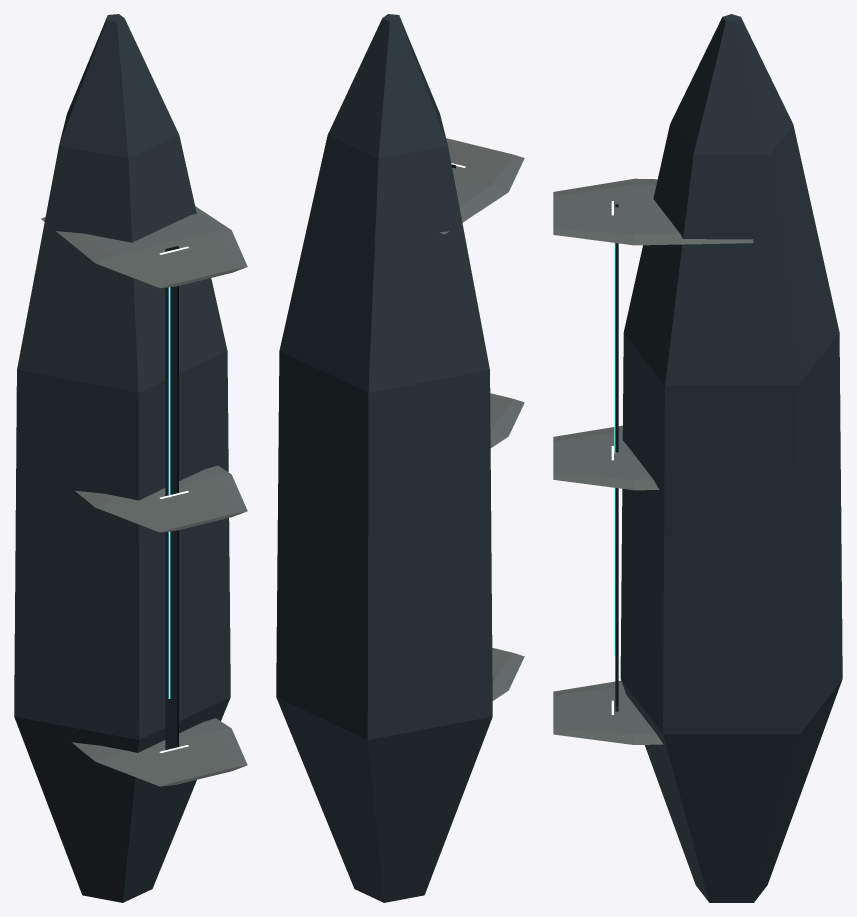
The model's file is Wall_Anchor_and_Lift.glb.
3 views of the same model, side by side, from view 1: azimuth 30°, elevation 25°; view 2: azimuth 150°, elevation 25°; view 3: azimuth 270°, elevation 25° (orthographic).
Parts seen in each view (by area): view 1: Anchor 1 | embedded alien stele, Anchor 1 | levitating landing 3, Anchor 1 | levitating landing 1, Anchor 1 | vertical transfer recess, Anchor 1 | levitating landing 2, Anchor 1 | transfer trace; view 2: Anchor 1 | embedded alien stele, Anchor 1 | levitating landing 3, Anchor 1 | levitating landing 2, Anchor 1 | levitating landing 1; view 3: Anchor 1 | embedded alien stele, Anchor 1 | levitating landing 3, Anchor 1 | levitating landing 1, Anchor 1 | levitating landing 2, Anchor 1 | vertical transfer recess, Anchor 1 | transfer trace.
Boxes of the visible parts, x1,y1,x2,y2 form: Anchor 1 | embedded alien stele: [14, 14, 230, 902]; Anchor 1 | levitating landing 3: [41, 206, 247, 288]; Anchor 1 | levitating landing 1: [72, 718, 247, 786]; Anchor 1 | vertical transfer recess: [165, 246, 178, 749]; Anchor 1 | levitating landing 2: [75, 465, 247, 532]; Anchor 1 | transfer trace: [168, 287, 170, 698]; Anchor 1 | embedded alien stele: [276, 14, 492, 902]; Anchor 1 | levitating landing 3: [439, 138, 524, 234]; Anchor 1 | levitating landing 2: [490, 393, 524, 447]; Anchor 1 | levitating landing 1: [492, 648, 524, 700]; Anchor 1 | embedded alien stele: [620, 14, 842, 902]; Anchor 1 | levitating landing 3: [553, 178, 753, 245]; Anchor 1 | levitating landing 1: [553, 680, 663, 744]; Anchor 1 | levitating landing 2: [553, 425, 659, 490]; Anchor 1 | vertical transfer recess: [615, 204, 618, 711]; Anchor 1 | transfer trace: [614, 243, 615, 655].
Size of the model in its own units: 195 by 890 by 268.
